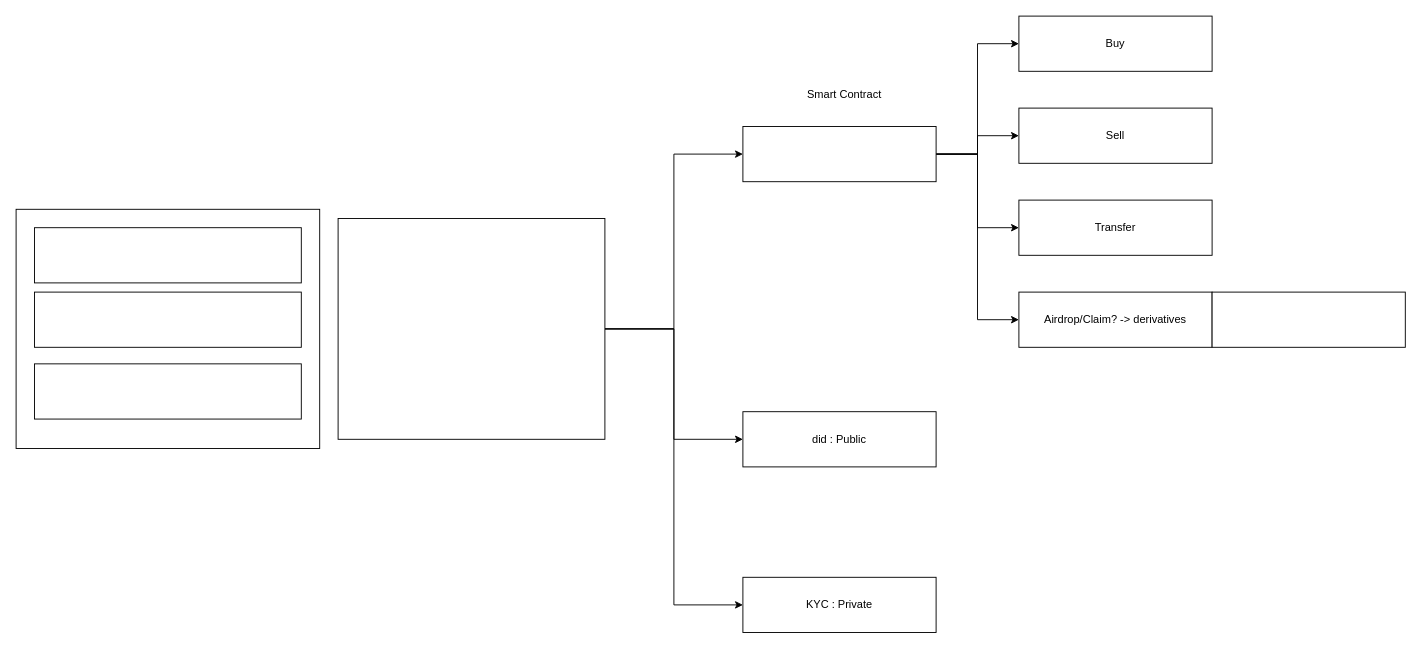
Some shapes in this 1421 by 649 pixel diagram are drawn without their labels. The centre of each missing label's shape, as x and y in pixels:
Name: Details: Shares: 100 Documents:: the point at 471,328
Nominee: the point at 1308,319
Shares:Tokens: the point at 839,154
